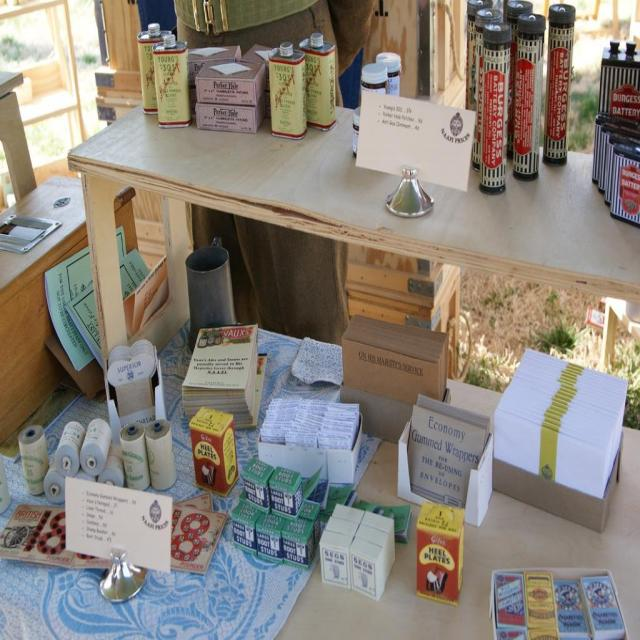Table: (70, 82, 577, 369)
